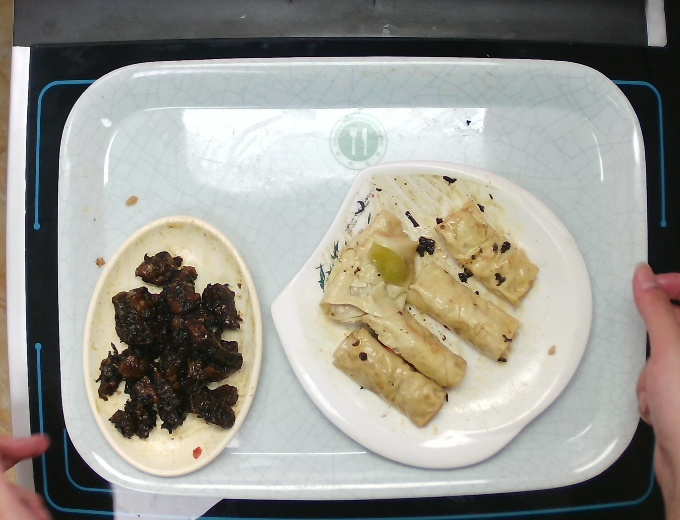JYsf-Mian_Pan: (273, 149, 596, 478)
JYsf-Tuo_Yuan_Wan: (77, 200, 266, 484)
